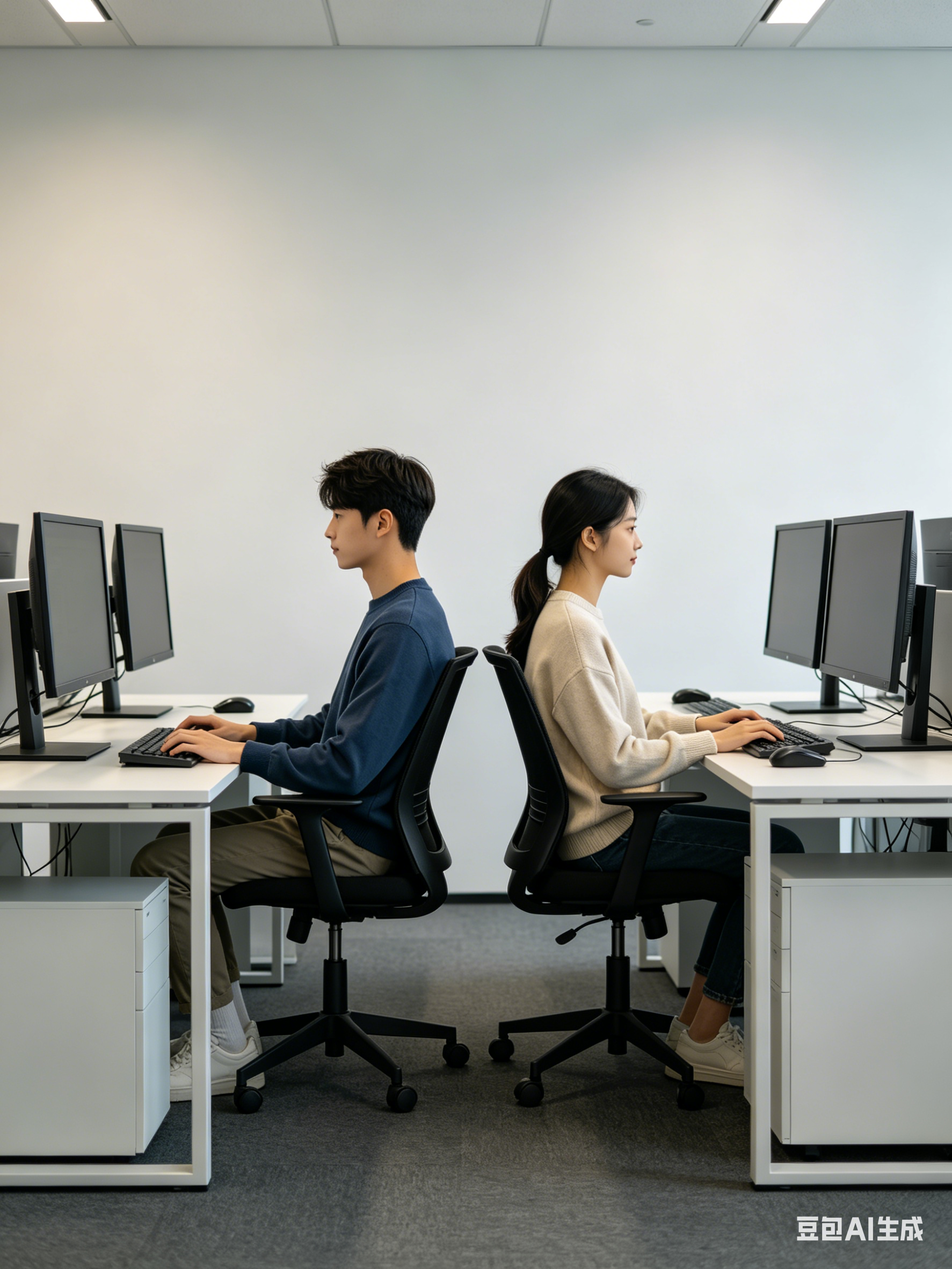sitting_good: (489, 446, 804, 962), (165, 452, 476, 898)
